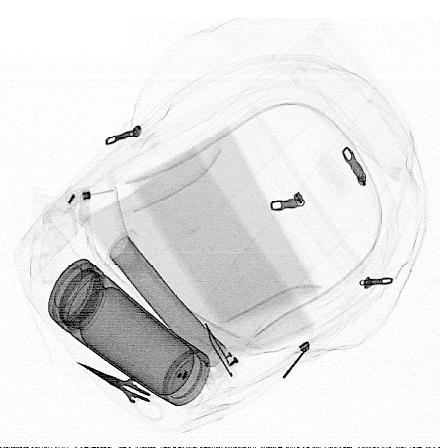Scissors: (75, 360, 166, 423)
